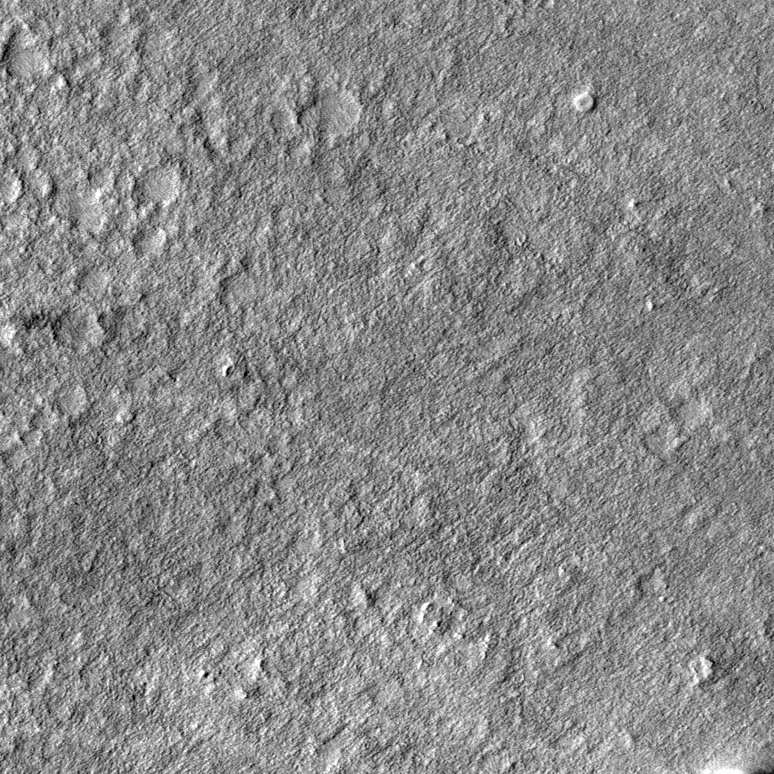dust_devil: (1, 305, 71, 351)
